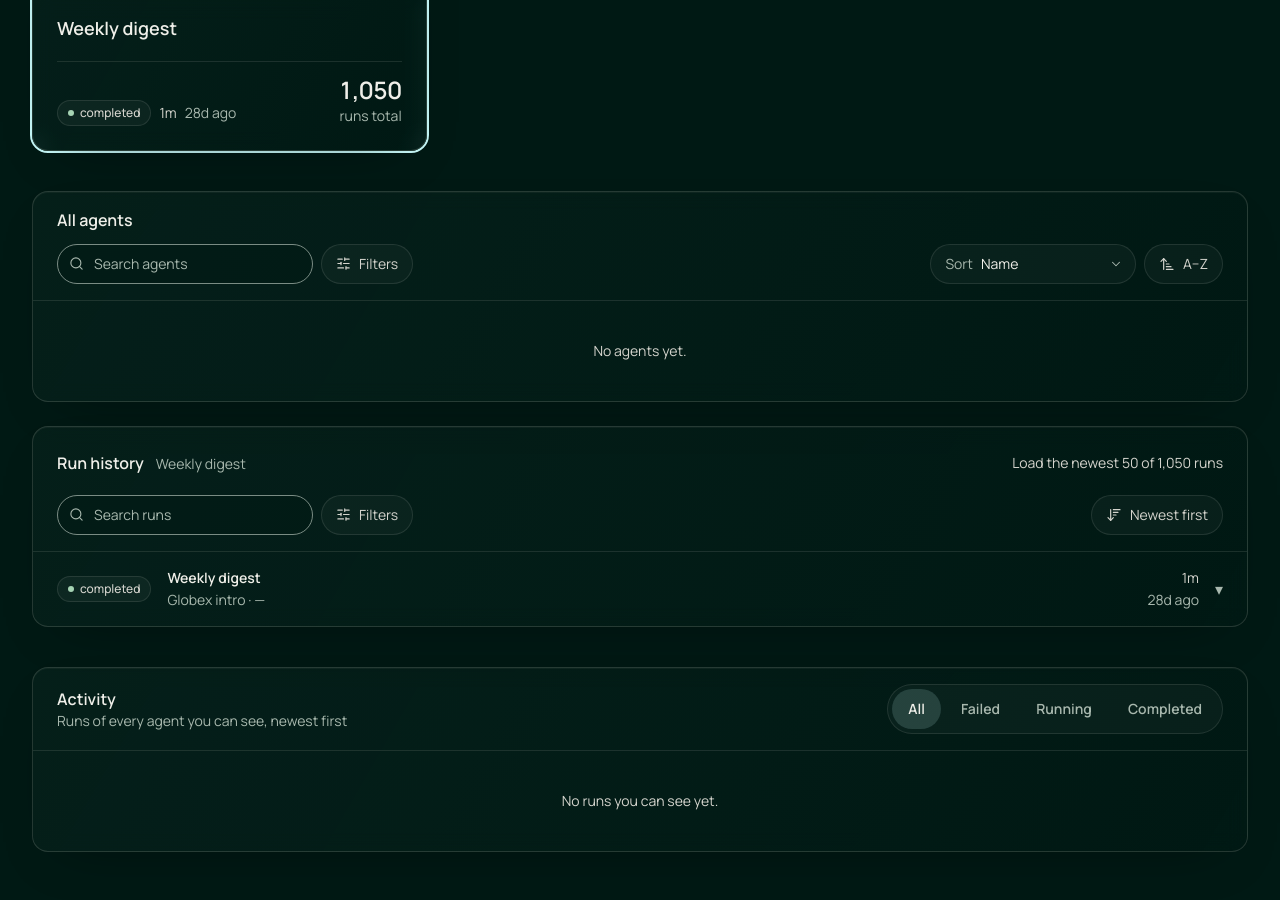
Test: agents page run history list controls › writes a history of 1,050 runs with a thousands separator in every count
(page scrolled)
Click the button "Load the newest 50 of 1,050 runs": (1118, 462) [1004,442,1231,482]
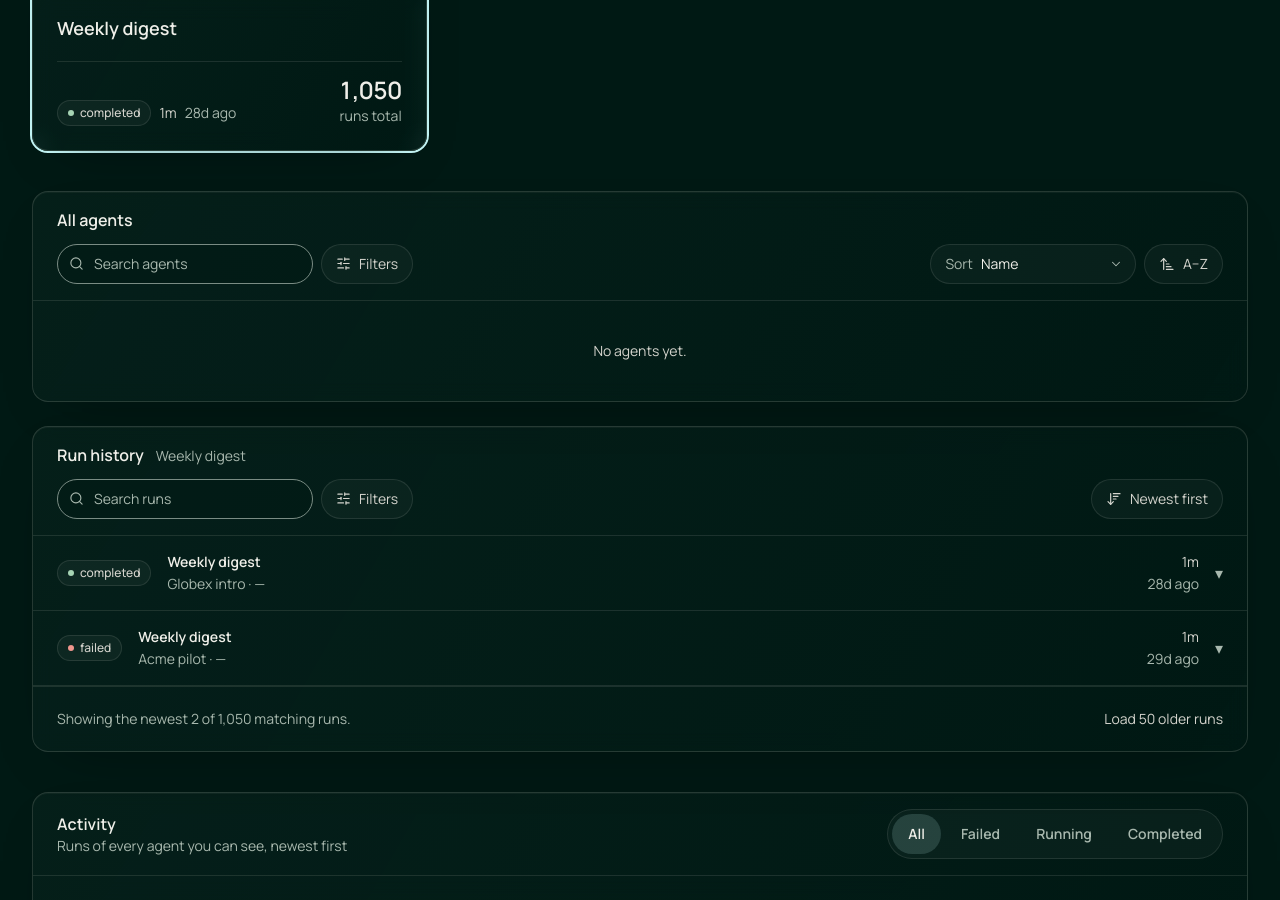
Expected: the text "Showing the newest 2 of 1,050 matching runs." is shown, [57,708,351,728]
Expected: the button "Load 50 older runs" is shown, [1096,698,1231,738]
